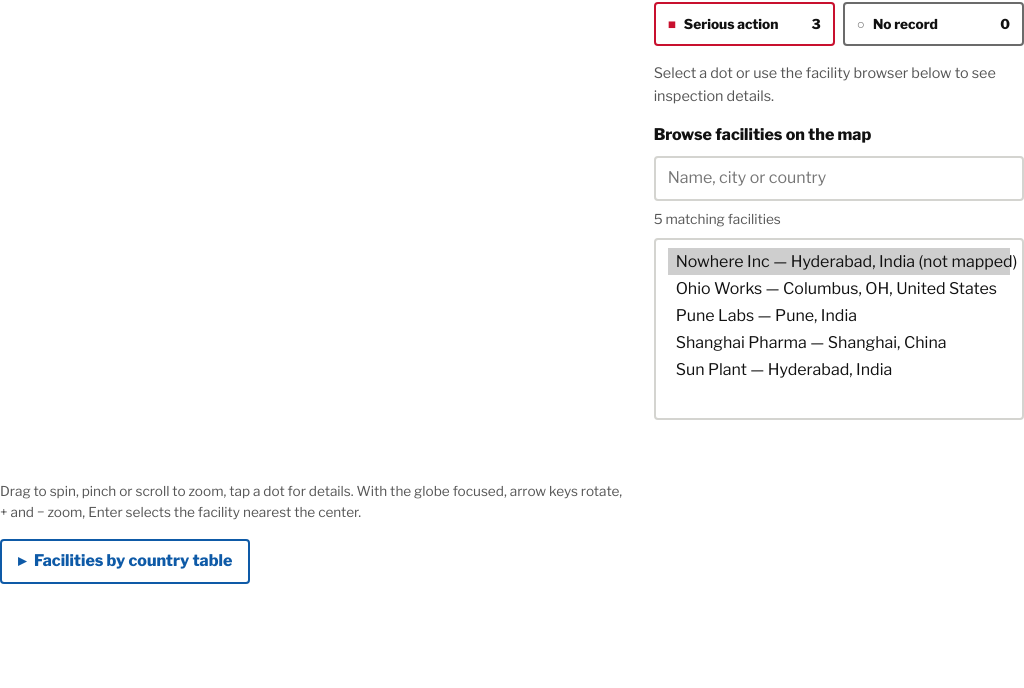
Globe › shows a by-country data table on demand
What coordinates should you click on to do the following:
click the button "▸ Facilities by country table"
I would click on:
 (125, 562)
Its box is [0,539,250,584].
(page scrolled)
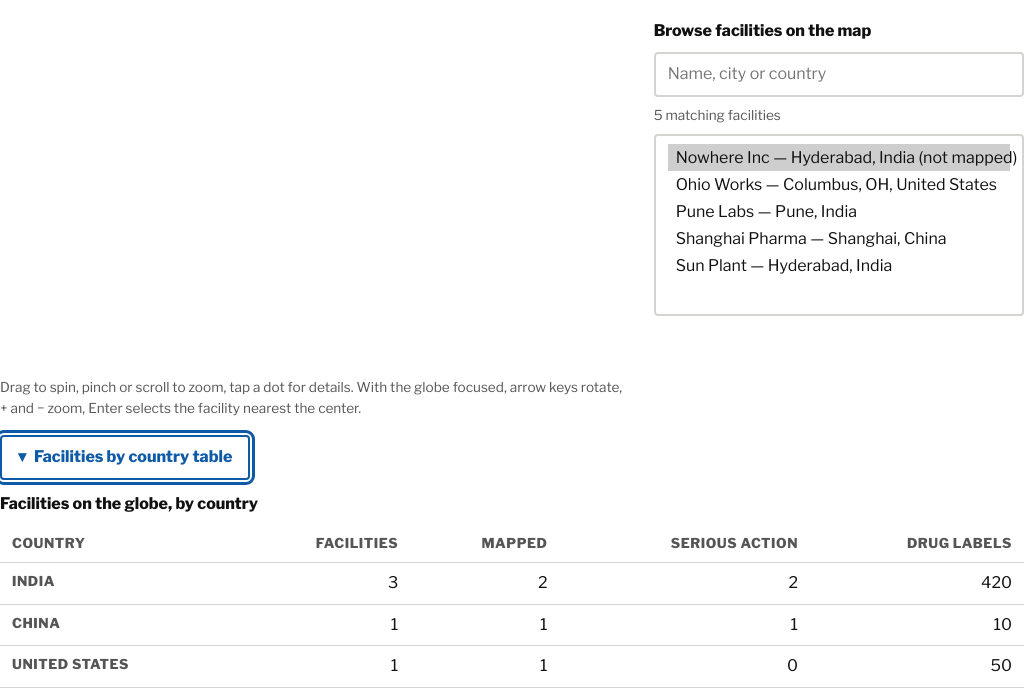
Expected: the button "▾ Facilities by country table" is expanded, [0,435,250,480]
Expected: the table "by country" is shown, [0,492,1023,687]
Expected: the column heading "India" is shown, [0,562,234,604]
